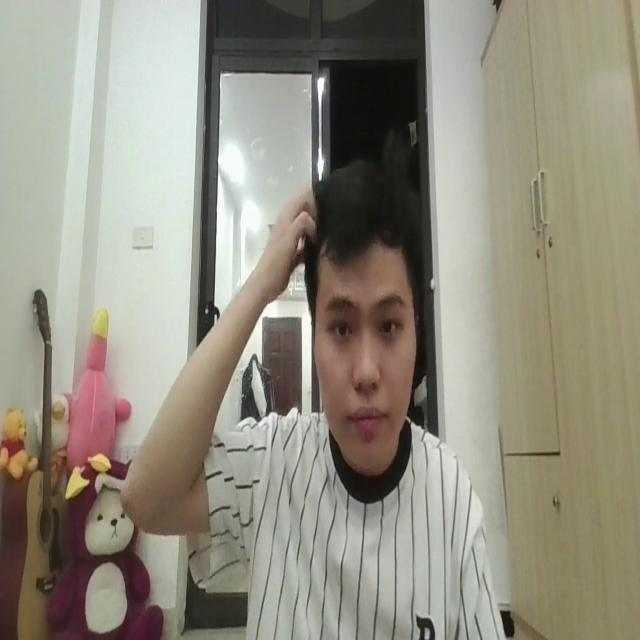student: (111, 155, 503, 640)
